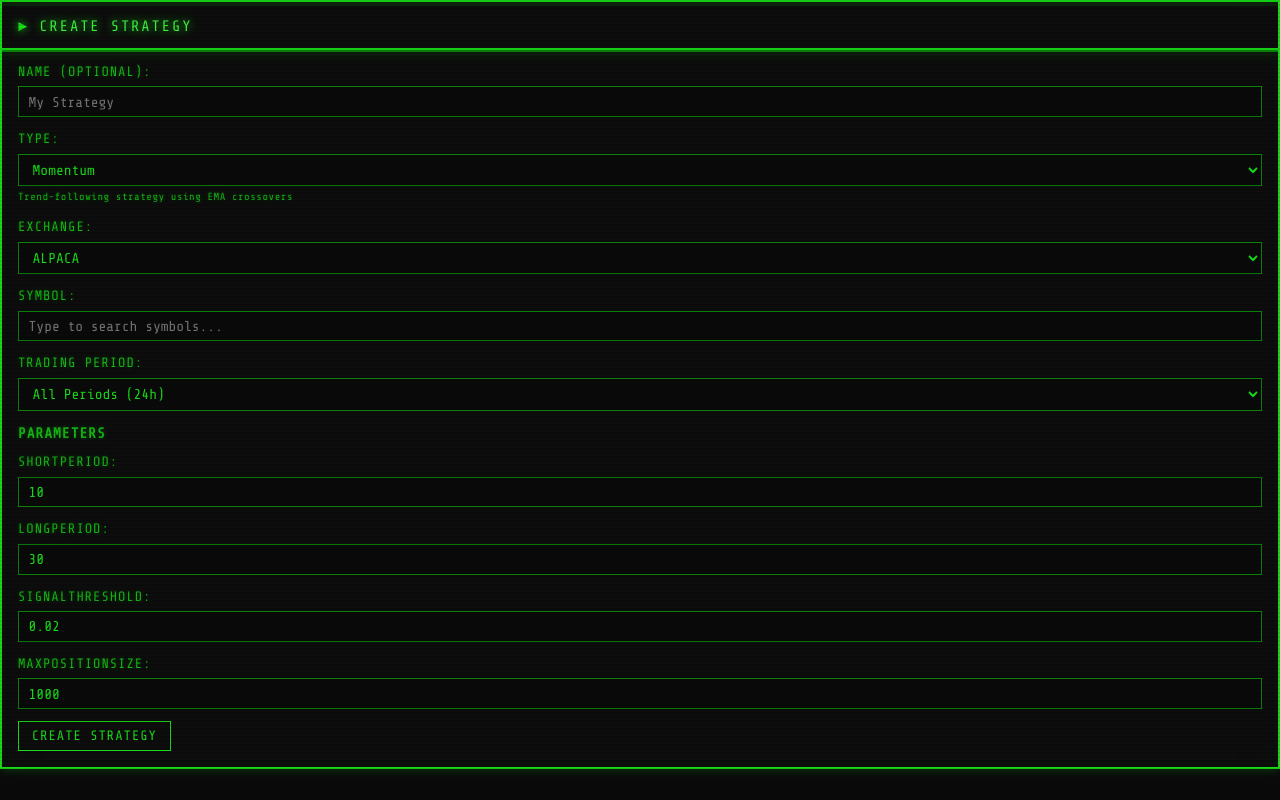
Test: StrategyForm › prevents submission with invalid symbol
# Type an invalid symbol (not selecting from dropdown)
Type "INVALID" into the field with placeholder "Type to search symbols..." at coordinates (640, 326), box [18, 311, 1262, 342]
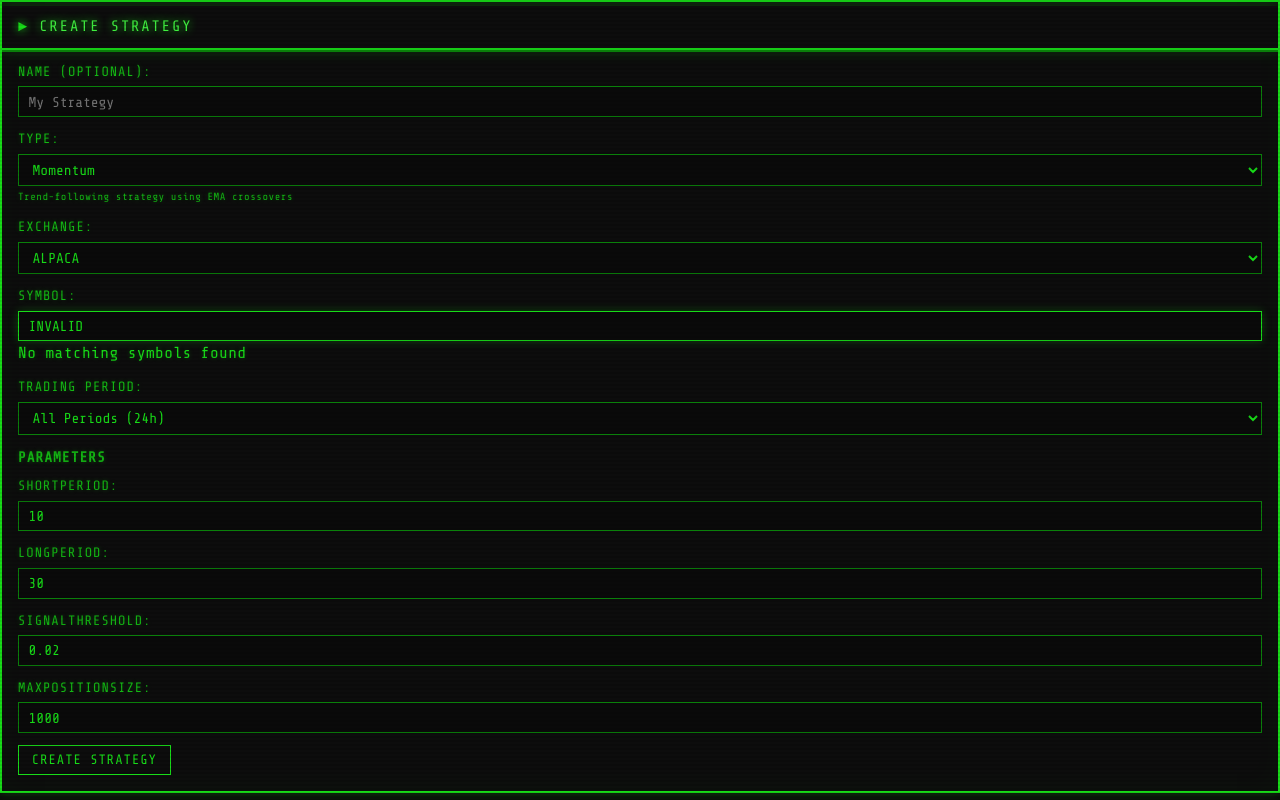
# Close dropdown by clicking elsewhere
Click the element that starts with "Create Strategy" at coordinates (640, 396), box [0, 0, 1279, 793]
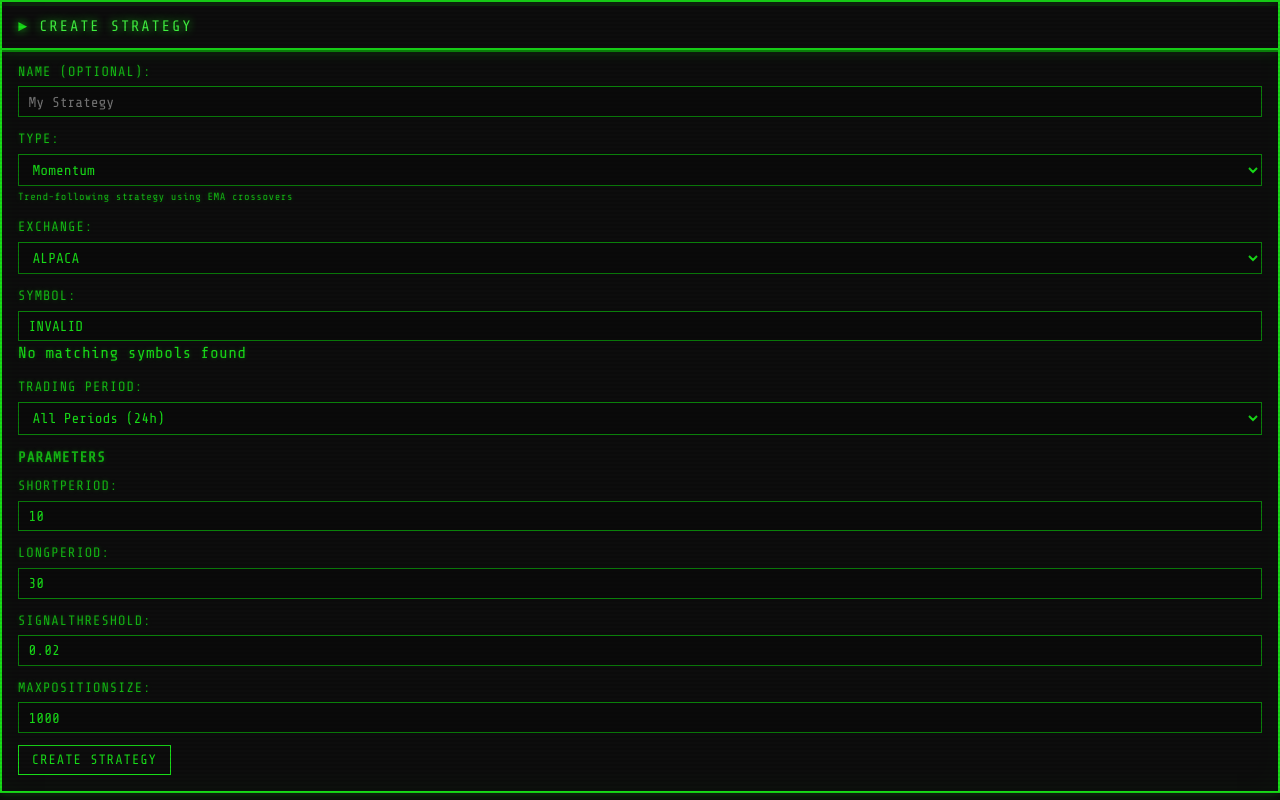
Click the button "Create Strategy" at coordinates (94, 760), box [18, 745, 171, 775]
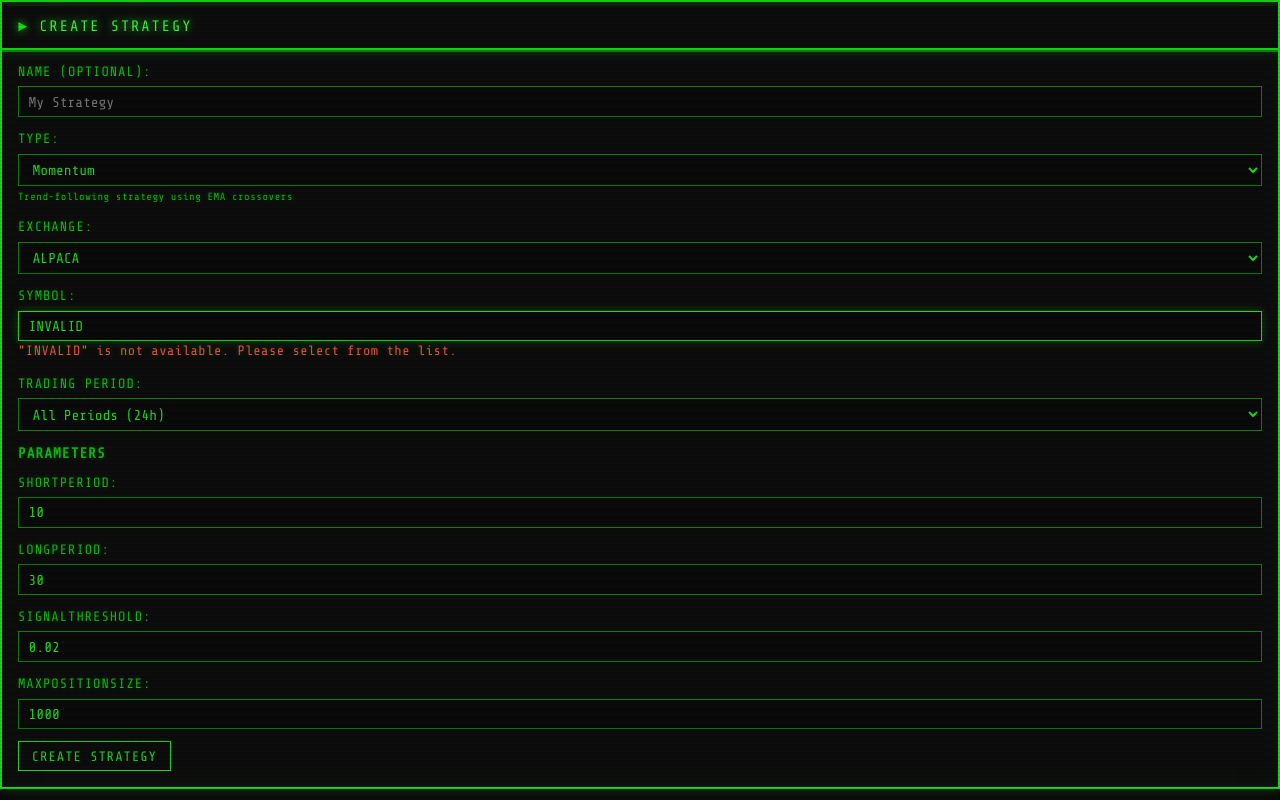
Expected: the text "\"INVALID\" is not available. Please select from the list." is shown, [18, 344, 457, 358]
